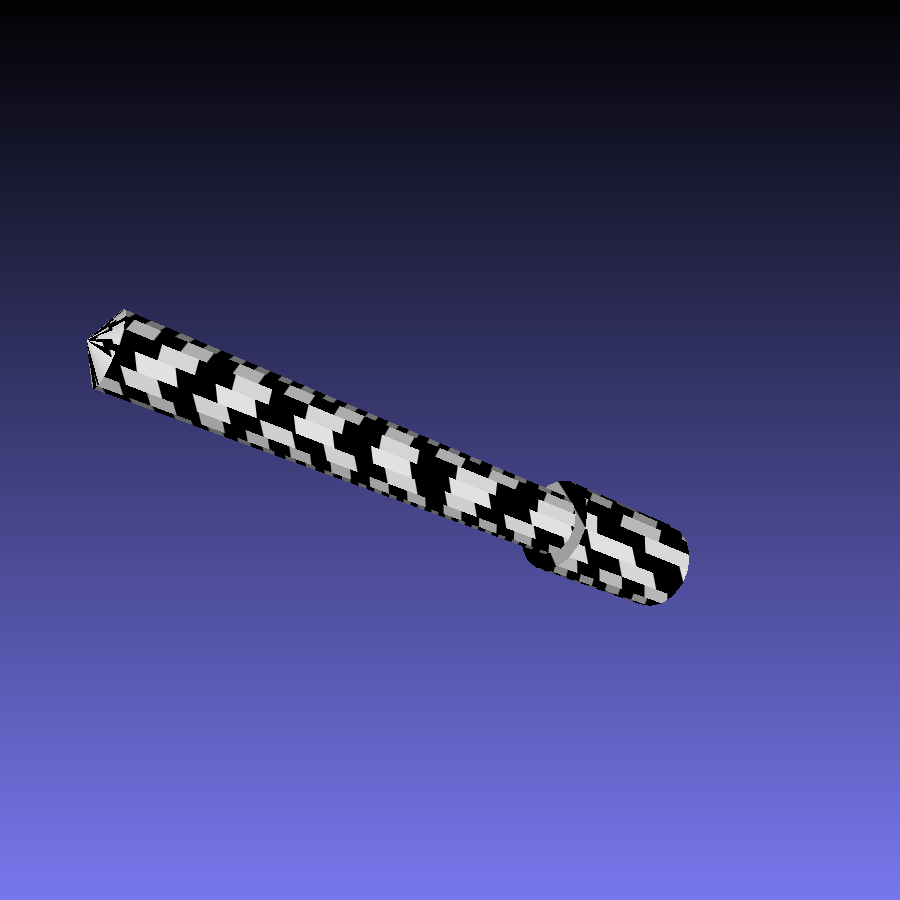cargo_g: (85, 308, 691, 608)
